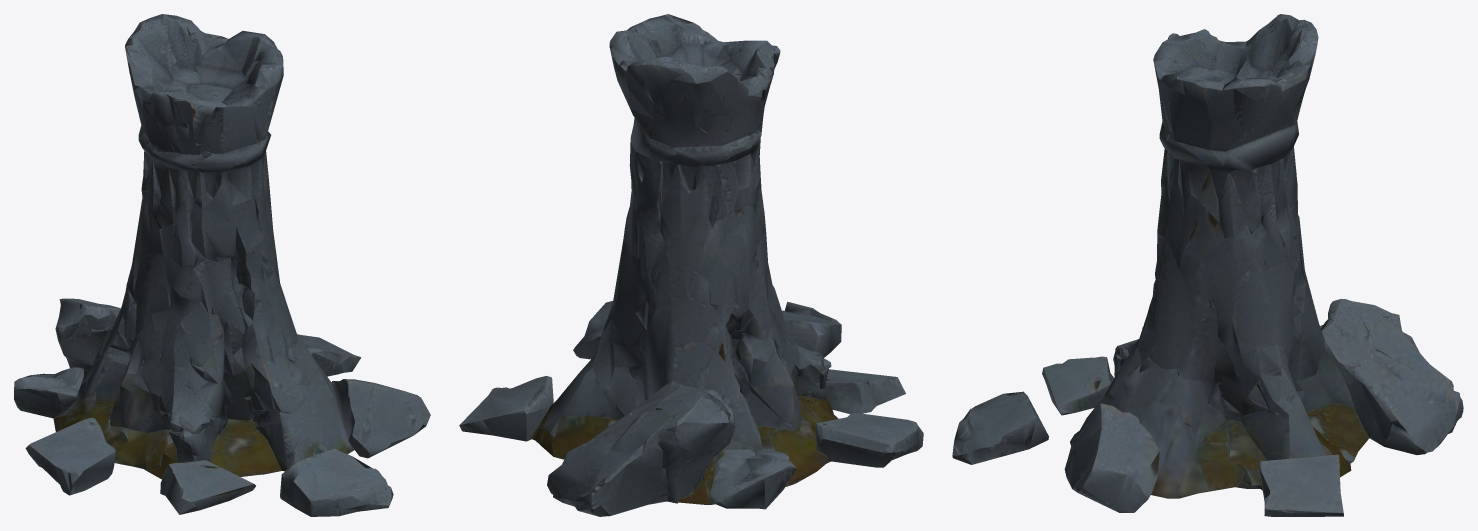
File: decor-pillar.glb
3 renders of one model, left to right at view 1: azimuth 30°, elevation 25°; view 2: azimuth 150°, elevation 25°; view 3: azimuth 270°, elevation 25°, orthographic. The views are drawn at different scales.
Size of the model in its own units: 1.61 by 1.64 by 1.9.
Materials: 1 (1 with a texture image).
